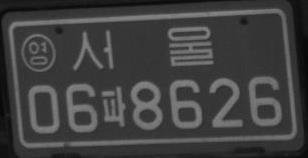0: (27, 84, 60, 134)
2: (209, 76, 243, 128)
6: (168, 78, 203, 129), (248, 75, 282, 127), (65, 83, 97, 134)
8: (130, 80, 163, 130)
서울_D: (72, 25, 214, 72)
영: (20, 33, 55, 73)
파: (100, 86, 126, 127)
